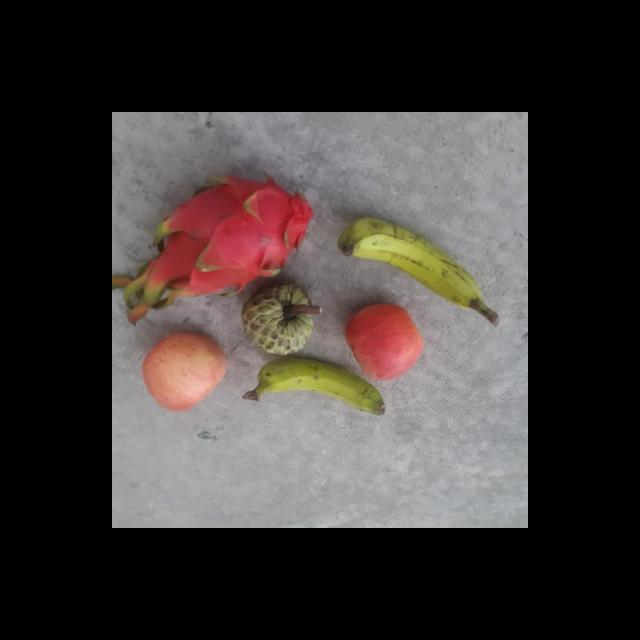Sakya fruit: (242, 284, 316, 356)
apple: (141, 329, 229, 412), (344, 300, 423, 382)
banana: (335, 217, 500, 327), (240, 356, 386, 418)
pitaya: (147, 176, 313, 300)
